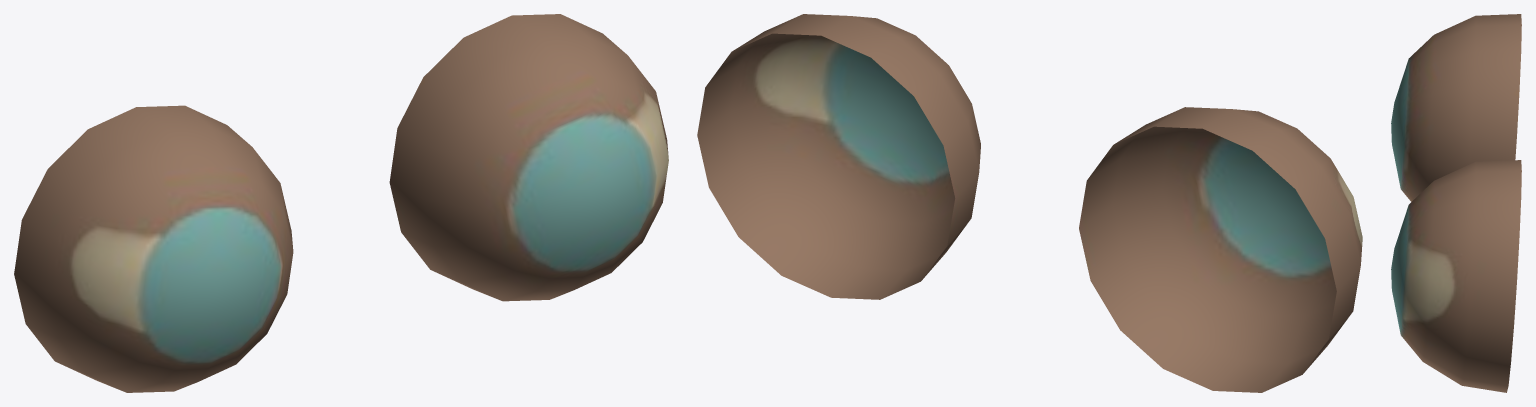
File: ARM1_Eyes_Z01.glb
3 renders of one model, left to right at view 1: azimuth 30°, elevation 25°; view 2: azimuth 150°, elevation 25°; view 3: azimuth 270°, elevation 25°, orthographic. The views are drawn at different scales.
Visible parts, largest first — view 1: ARM1_Eyes_Z01; view 2: ARM1_Eyes_Z01; view 3: ARM1_Eyes_Z01.
Part boxes in pixels (left/top/right/bottom): ARM1_Eyes_Z01: left=14, top=14, right=668, bottom=392; ARM1_Eyes_Z01: left=697, top=14, right=1362, bottom=392; ARM1_Eyes_Z01: left=1391, top=14, right=1521, bottom=392.
Bounding box in the file's own units: 0.5311 × 0.2137 × 0.1199.
1 material, 1 textured.
